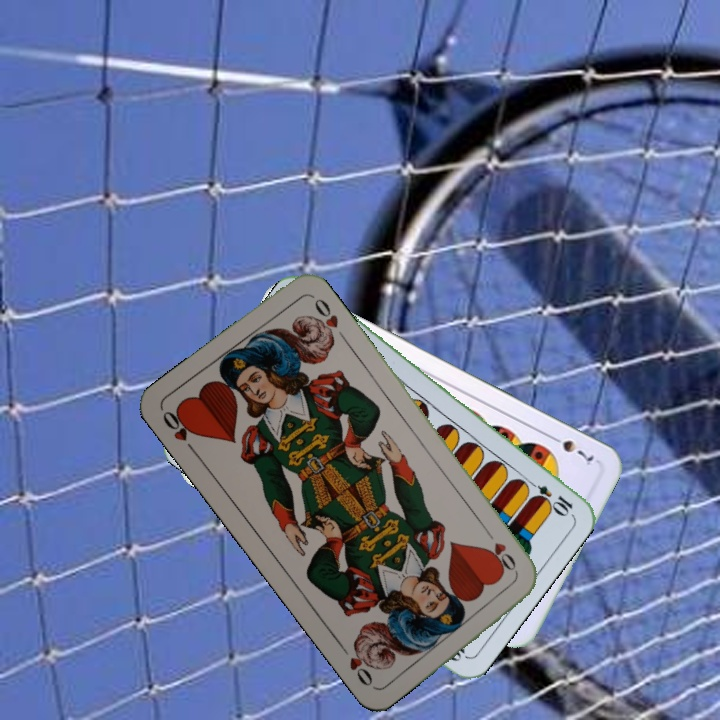E10: (522, 475, 576, 518)
HO: (158, 405, 200, 457), (482, 525, 521, 578)
S7: (545, 430, 597, 468)
